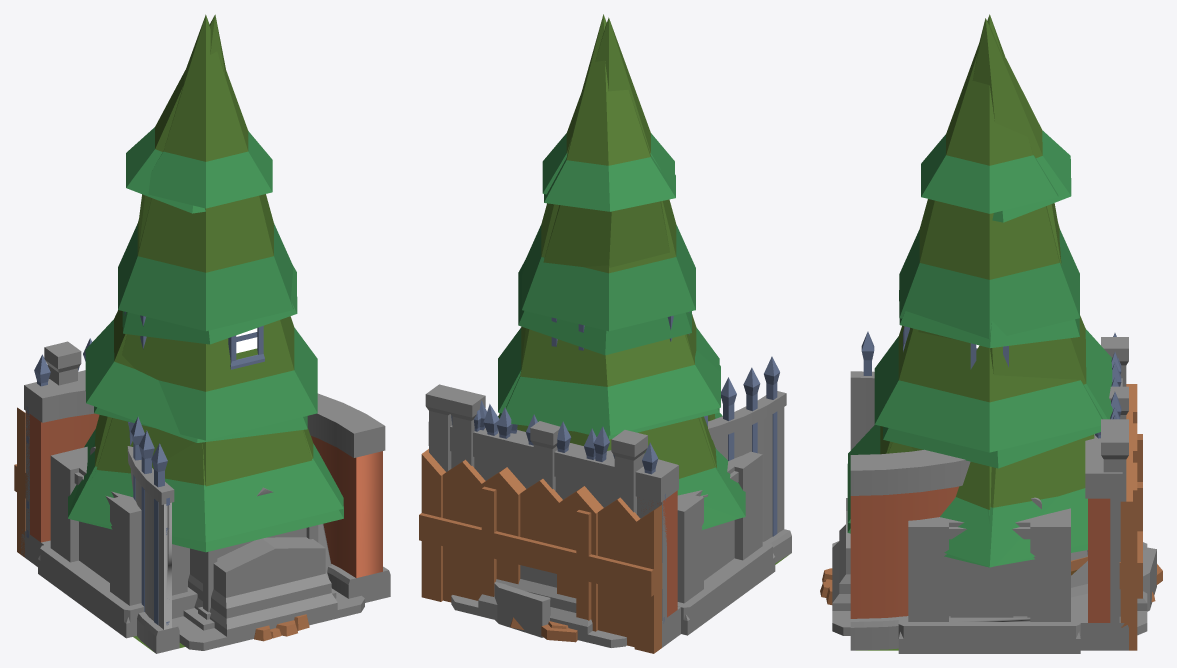
Rendered from SC_Hallows_Eve.fbx.
3 views of the same model, side by side, from view 1: azimuth 30°, elevation 25°; view 2: azimuth 150°, elevation 25°; view 3: azimuth 270°, elevation 25° (orthographic). The views are drawn at different scales.
Visible parts, largest first — view 1: SM_Pine, SM_Pine_Crooked, SM_Brick_Wall_Curve, SM_Altar_Stone, SM_Gravestone_Flat_Open, SM_Stone_Wall_Curve, SM_Crypt, SM_Gravestone_Flat_Lid, SM_Iron_Fence_Curve, SM_Iron_Fence_Border_Gate, SM_Iron_Fence_Border_Curve, SM_Gravestone_Flat (+4 smaller); view 2: SM_Pine_Crooked, SM_Fence, SM_Pine, SM_Altar_Stone, SM_Stone_Wall_Column, SM_Stone_Wall_Curve, SM_Iron_Fence_Border_Gate, SM_Board, SM_Fence_Board, SM_Fence_Damaged_Board, SM_Iron_Fence_Border_Column, SM_Brick_Wall (+9 smaller); view 3: SM_Pine, SM_Pine_Crooked, SM_Altar_Stone, SM_Brick_Wall_Curve, SM_Brick_Wall, SM_Stone_Wall_Curve, SM_Fence, SM_Iron_Fence_Border_Column, SM_Altar_Wood, SM_Gravestone_Flat_Open, SM_Iron_Fence_Border_Gate, SM_Crypt (+3 smaller).
Boxes of the visible parts, <box> form: SM_Pine: <box>68,14,343,552</box>; SM_Pine_Crooked: <box>68,14,343,542</box>; SM_Brick_Wall_Curve: <box>22,374,390,602</box>; SM_Altar_Stone: <box>40,446,197,637</box>; SM_Gravestone_Flat_Open: <box>188,555,337,645</box>; SM_Stone_Wall_Curve: <box>127,446,179,653</box>; SM_Crypt: <box>172,487,364,650</box>; SM_Gravestone_Flat_Lid: <box>213,537,325,576</box>; SM_Iron_Fence_Curve: <box>128,416,169,625</box>; SM_Iron_Fence_Border_Gate: <box>21,341,81,563</box>; SM_Iron_Fence_Border_Curve: <box>129,431,179,653</box>; SM_Gravestone_Flat: <box>213,548,325,597</box>; SM_Pine_Crooked: <box>498,14,745,529</box>; SM_Fence: <box>421,449,661,653</box>; SM_Pine: <box>498,17,745,527</box>; SM_Altar_Stone: <box>677,451,772,634</box>; SM_Stone_Wall_Column: <box>450,421,669,635</box>; SM_Stone_Wall_Curve: <box>708,391,791,562</box>; SM_Iron_Fence_Border_Gate: <box>449,390,671,642</box>; SM_Board: <box>419,486,648,620</box>; SM_Fence_Board: <box>419,513,653,596</box>; SM_Fence_Damaged_Board: <box>419,513,662,596</box>; SM_Iron_Fence_Border_Column: <box>425,384,657,472</box>; SM_Brick_Wall: <box>428,422,677,615</box>; SM_Pine: <box>847,14,1102,567</box>; SM_Pine_Crooked: <box>848,18,1112,566</box>; SM_Altar_Stone: <box>898,508,1080,653</box>; SM_Brick_Wall_Curve: <box>850,449,970,650</box>; SM_Brick_Wall: <box>1080,378,1128,650</box>; SM_Stone_Wall_Curve: <box>850,371,1128,650</box>; SM_Fence: <box>1120,384,1137,650</box>; SM_Iron_Fence_Border_Column: <box>1101,358,1128,632</box>; SM_Altar_Wood: <box>898,527,1080,653</box>; SM_Gravestone_Flat_Open: <box>832,524,1147,610</box>; SM_Iron_Fence_Border_Gate: <box>1101,337,1128,430</box>; SM_Crypt: <box>832,541,1147,635</box>.
Size of the model in its own units: 2.36 by 4.6 by 2.46.
